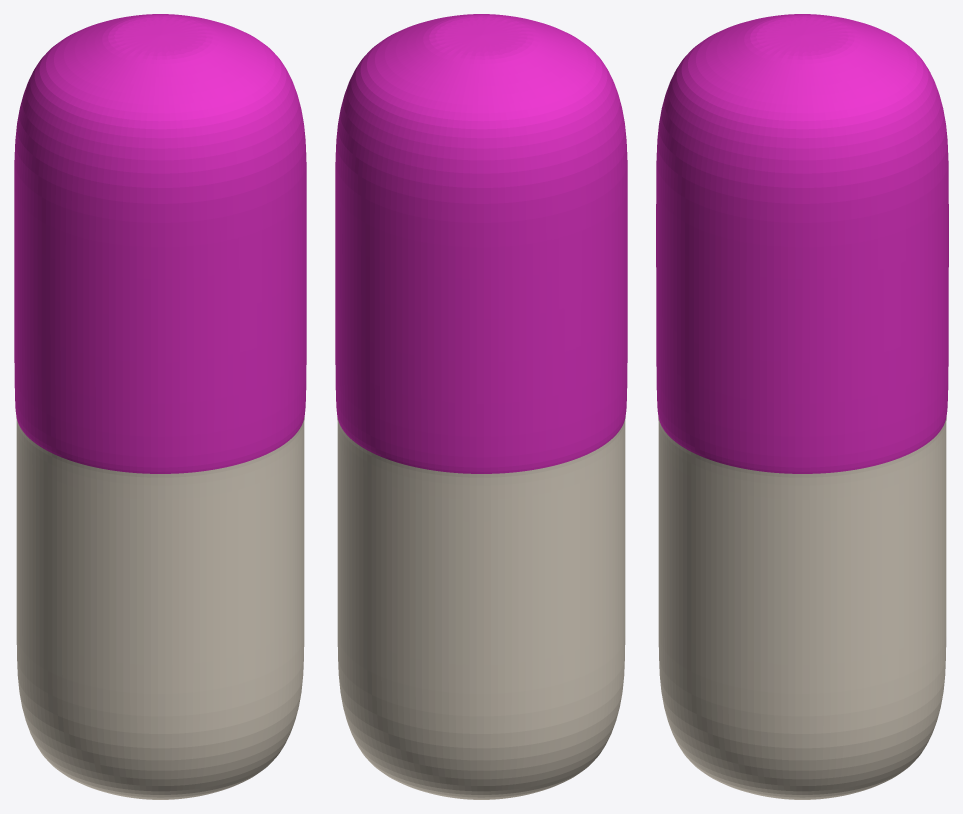
The model's file is PastillasRosa.fbx.
The picture shows the model from 3 angles, left to right: view 1: azimuth 30°, elevation 25°; view 2: azimuth 150°, elevation 25°; view 3: azimuth 270°, elevation 25°; orthographic projection.
Visible parts, largest first — view 1: Pastilla4; view 2: Pastilla4; view 3: Pastilla4.
Part boxes in pixels (bbox=[...]): Pastilla4: bbox=[14, 14, 306, 799]; Pastilla4: bbox=[335, 14, 627, 799]; Pastilla4: bbox=[656, 14, 948, 799].
Size of the model in its own units: 202 by 567 by 202.
